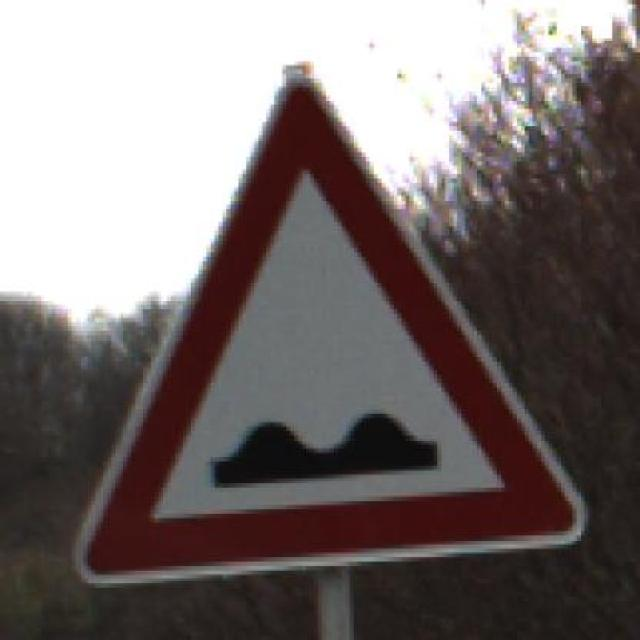Uneven Road: (35, 74, 592, 588)
